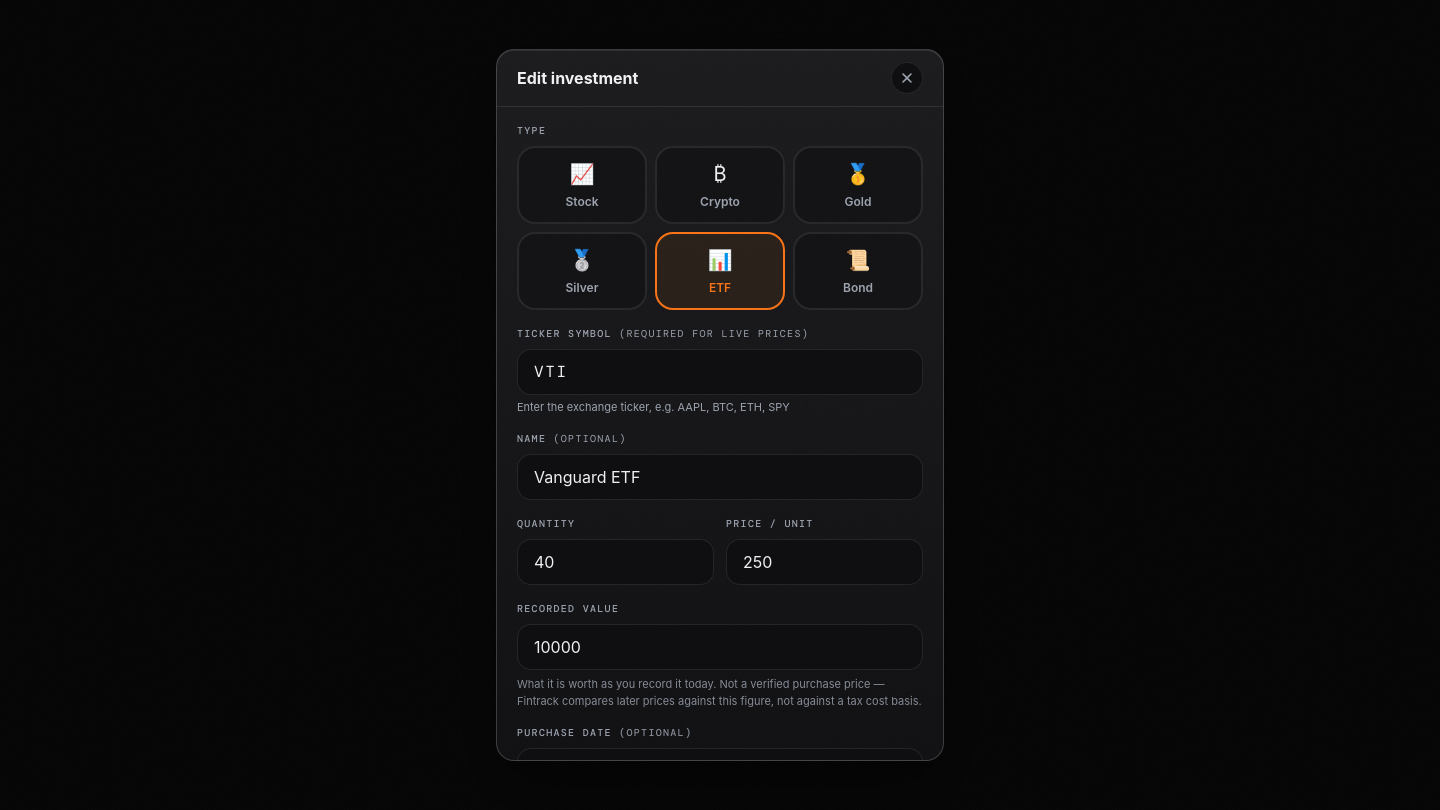
Scenario: edit mode › recalculates the recorded total when quantity and unit value change
This screenshot has width=1440, height=810.
Replace the text in the number field showing "40" below "Quantity" with "50" at coordinates (616, 562), box [517,539,714,585]
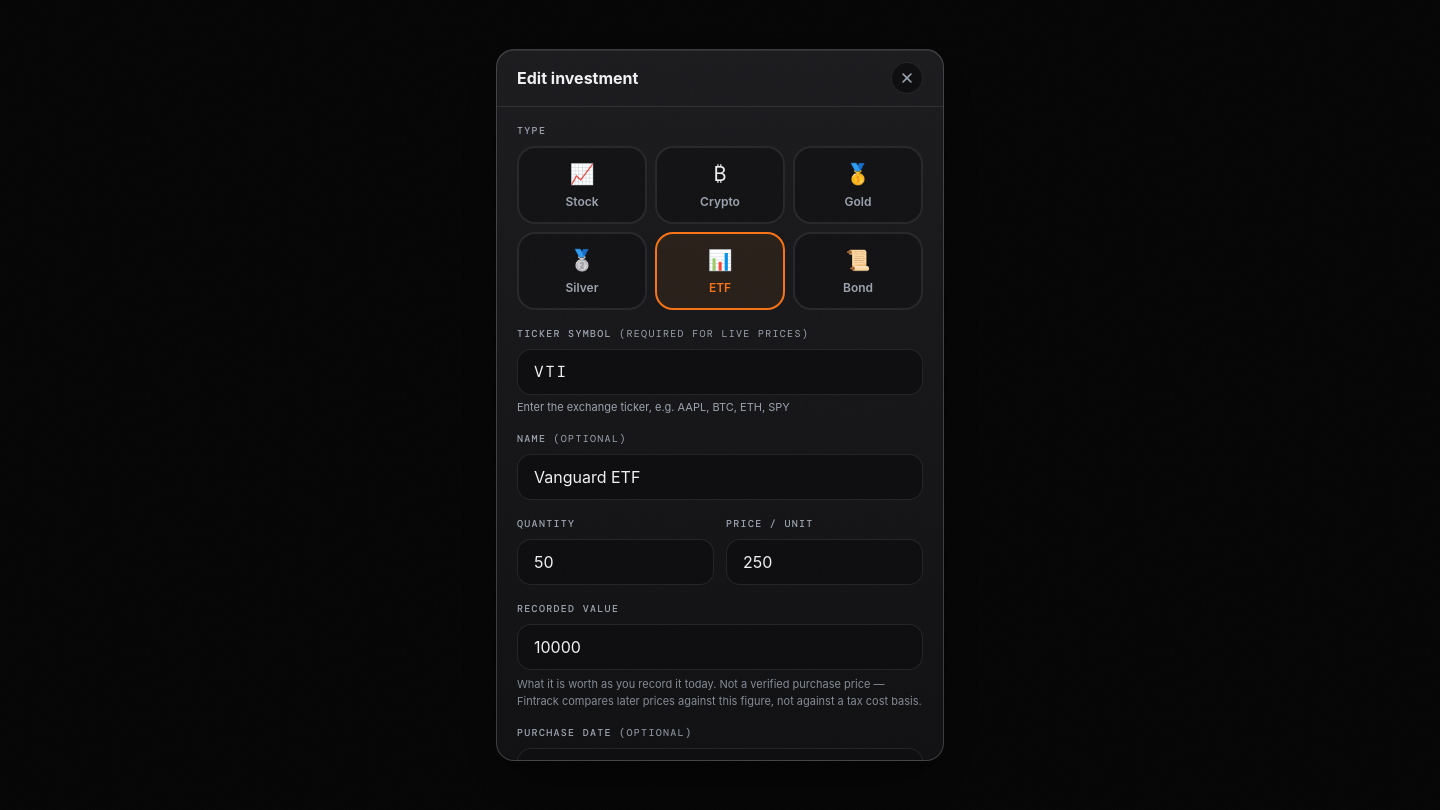
Leave the number field showing "40" below "Quantity", box [517,539,714,585]
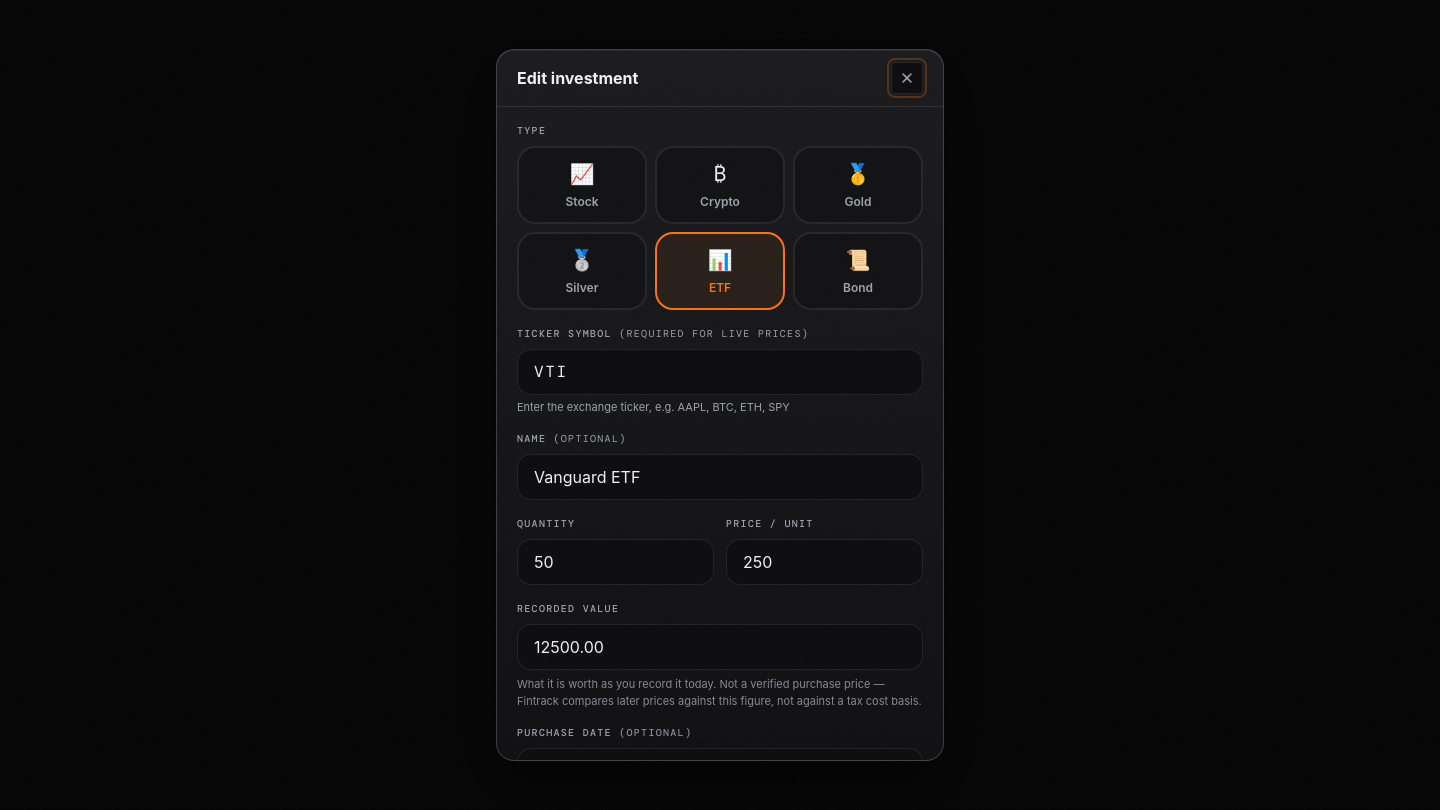
expect the number field showing "12500.00" below "Recorded value" is shown: met, box [517,624,923,670]
